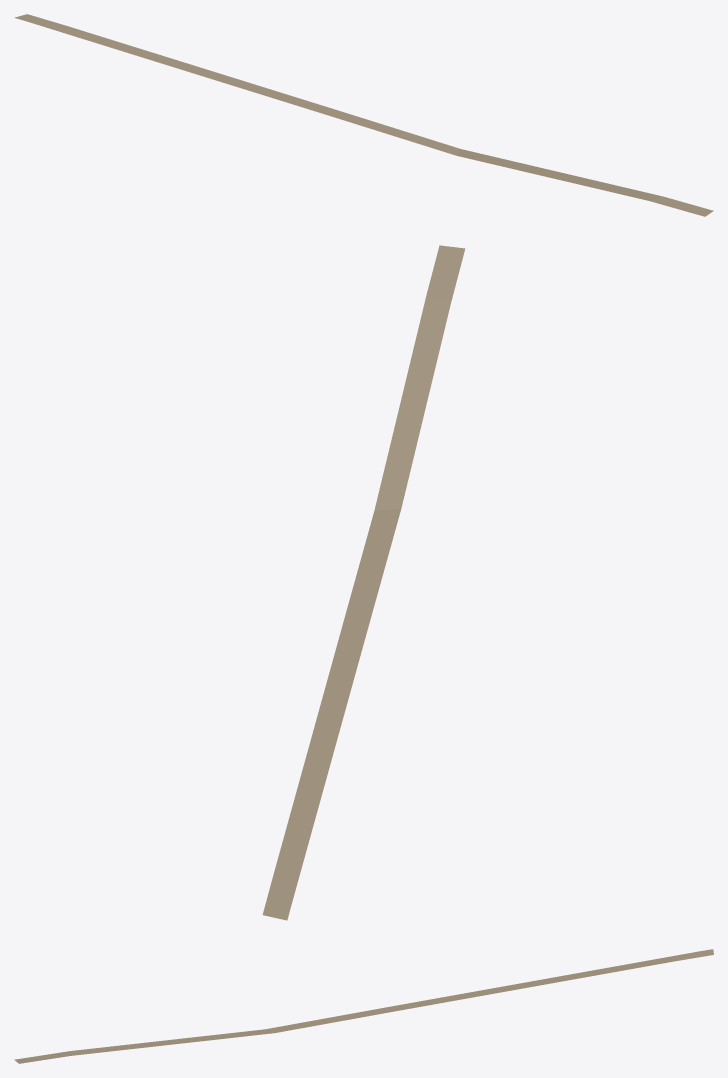
The model's file is farm_11_8_track.glb.
3 renders of one model, top to bottom at view 1: azimuth 30°, elevation 25°; view 2: azimuth 150°, elevation 25°; view 3: azimuth 270°, elevation 25°, orthographic. The views are drawn at different scales.
Parts seen in each view (by area): view 1: geometry_0; view 2: geometry_0; view 3: geometry_0.
Boxes of the visible parts, x1,y1,x2,y2 form: geometry_0: [14, 14, 713, 216]; geometry_0: [262, 245, 465, 920]; geometry_0: [14, 949, 713, 1063].
Bounding box in the file's own units: 78.72 × 4.84 × 176.
